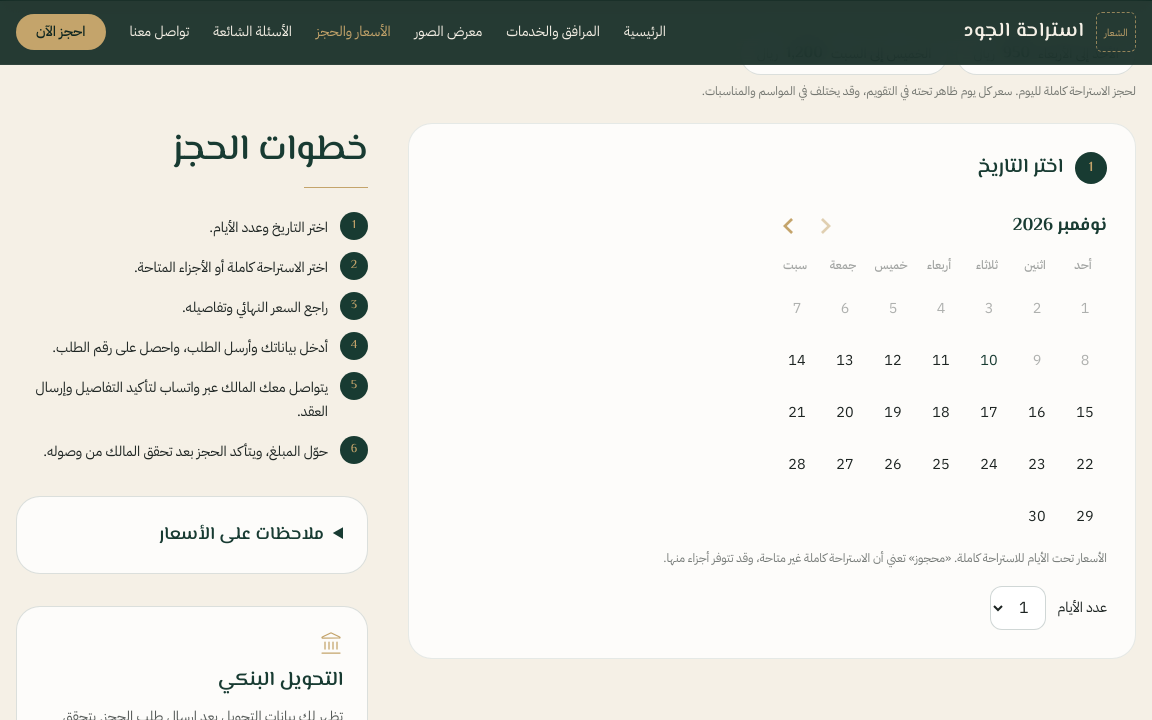
it: booking form › lets the guest pick available parts and shows why others are unavailable
This screenshot has width=1152, height=720.
(page scrolled)
Click the button named "12 نوفمبر 2026" at (893, 360), box top-left (871, 336), bottom-right (915, 384)
(page scrolled)
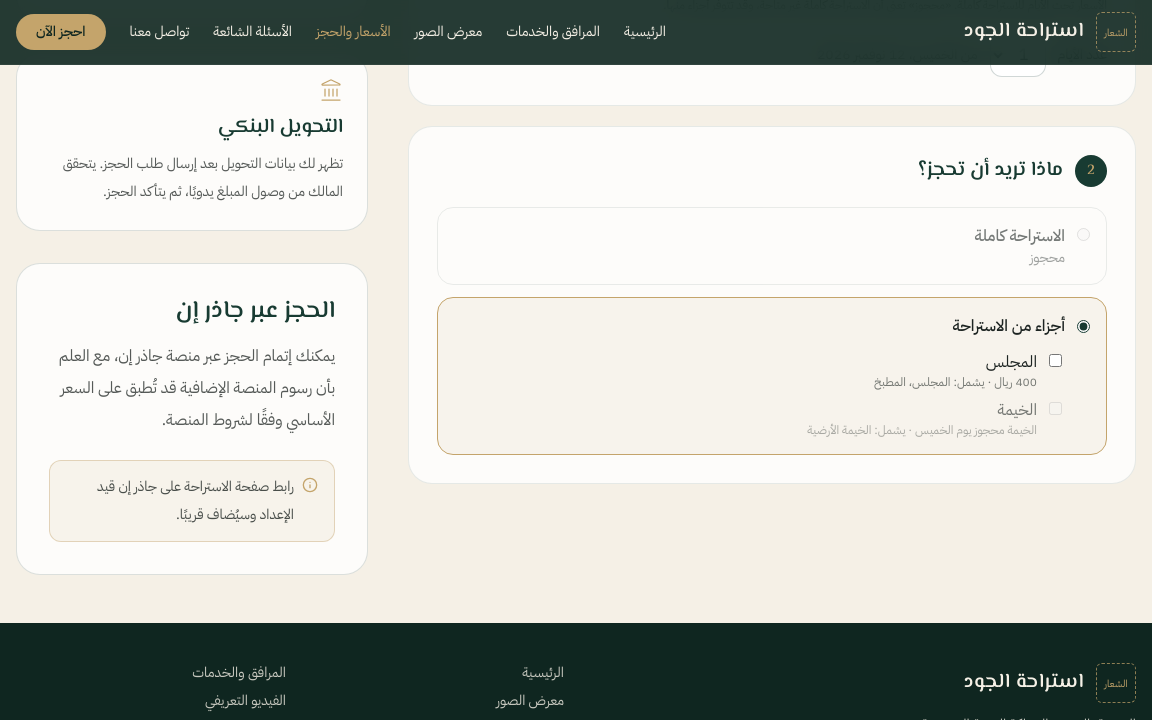
Check: the radio button labelled "أجزاء من الاستراحة" is checked, box top-left (1077, 320), bottom-right (1090, 332)
Check: the radio button labelled "الاستراحة كاملة محجوز" is disabled, box top-left (1077, 228), bottom-right (1090, 241)
Check: the checkbox labelled "الخيمة الخيمة محجوز يوم الخميس · يشمل: الخيمة الأرضية" is disabled, box top-left (1049, 402), bottom-right (1062, 415)
Click the checkbox labelled "المجلس 400 ريال · يشمل: المجلس، المطبخ" at (1056, 360), box top-left (1049, 354), bottom-right (1062, 367)
(page scrolled)
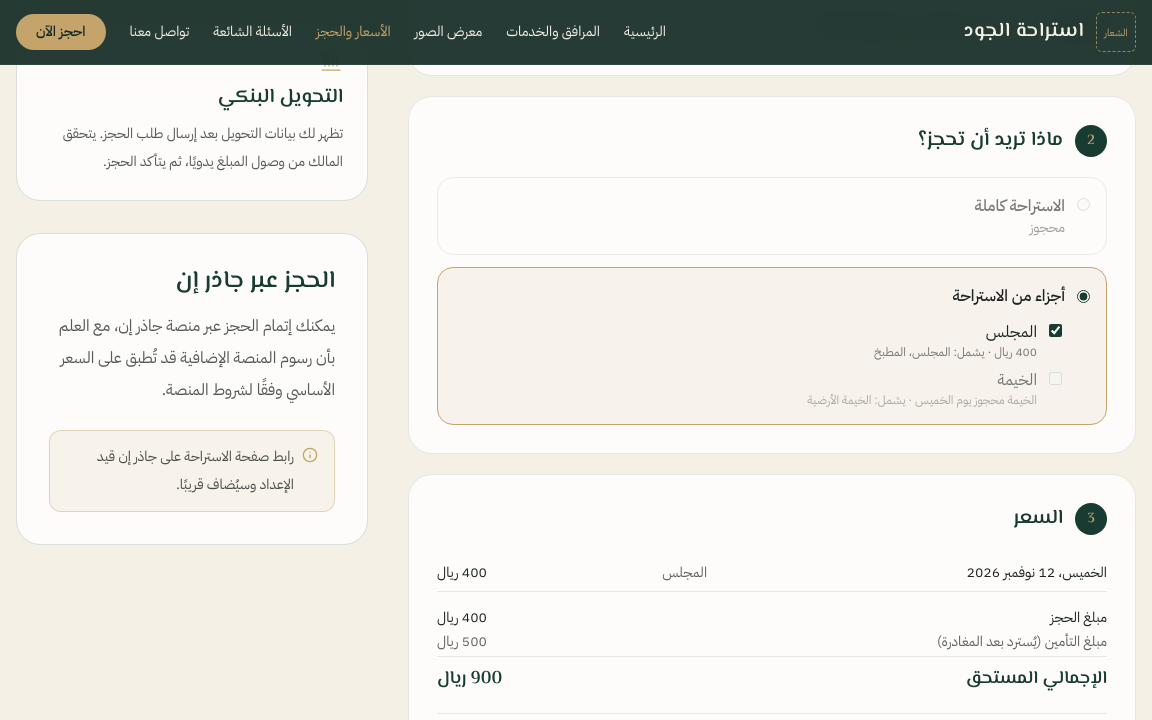
Check: the text "900 ريال" is shown, box top-left (437, 665), bottom-right (502, 693)
